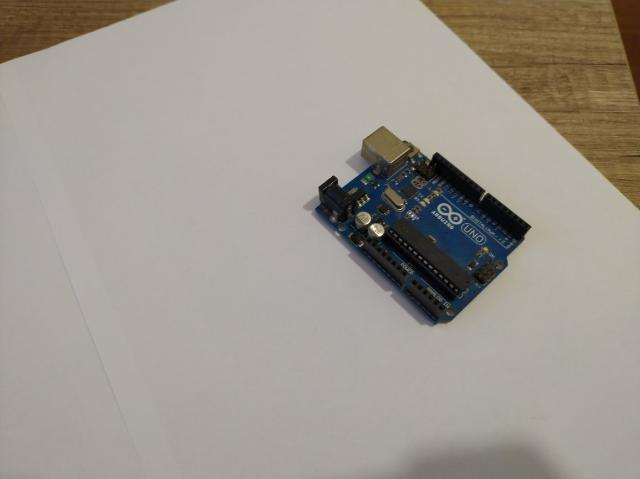arduino: (316, 126, 532, 322)
